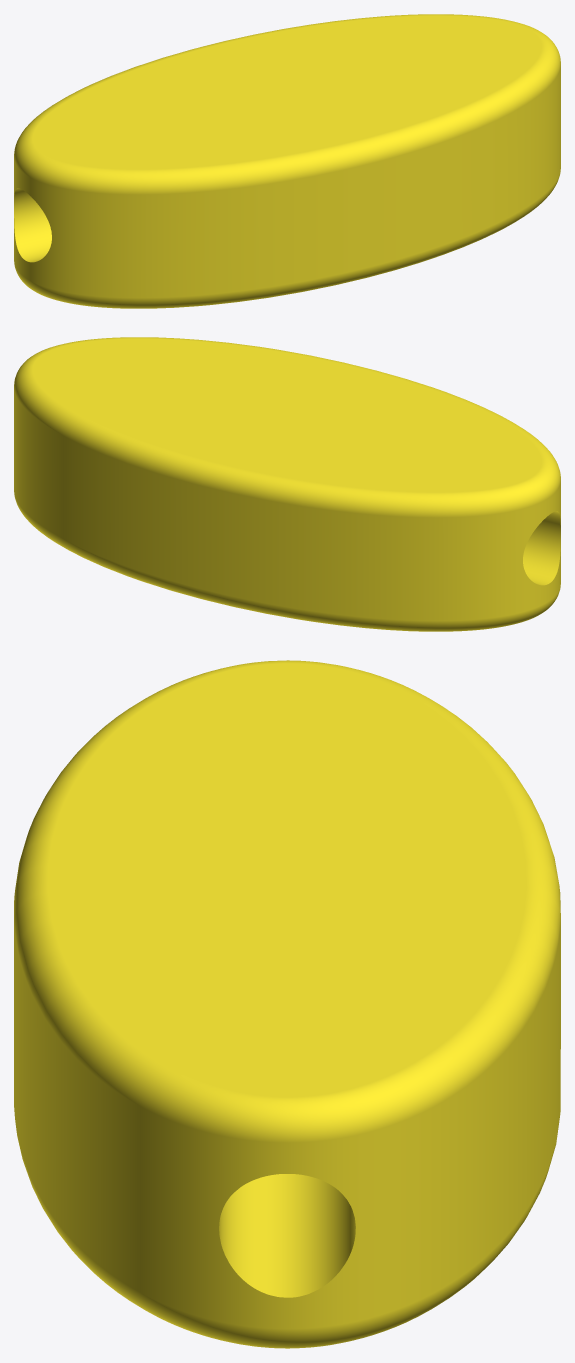
Rendered from Ovaal geel.glb.
3 renders of one model, top to bottom at view 1: azimuth 30°, elevation 25°; view 2: azimuth 150°, elevation 25°; view 3: azimuth 270°, elevation 25°, orthographic. The views are drawn at different scales.
Bounding box in the file's own units: 0.016 × 0.004 × 0.008.
